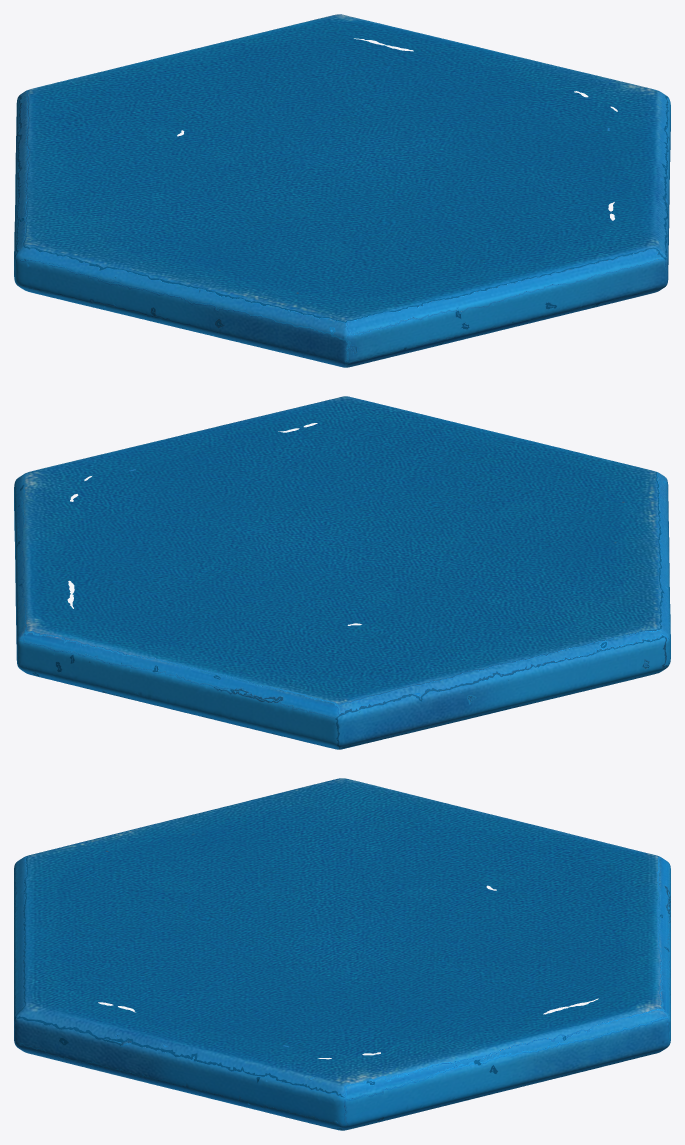
3 views of the same model, one above another, from view 1: azimuth 30°, elevation 25°; view 2: azimuth 150°, elevation 25°; view 3: azimuth 270°, elevation 25° (orthographic).
Bounding box in the file's own units: 2 × 0.1401 × 1.75.
Materials: 1 (1 with a texture image).
